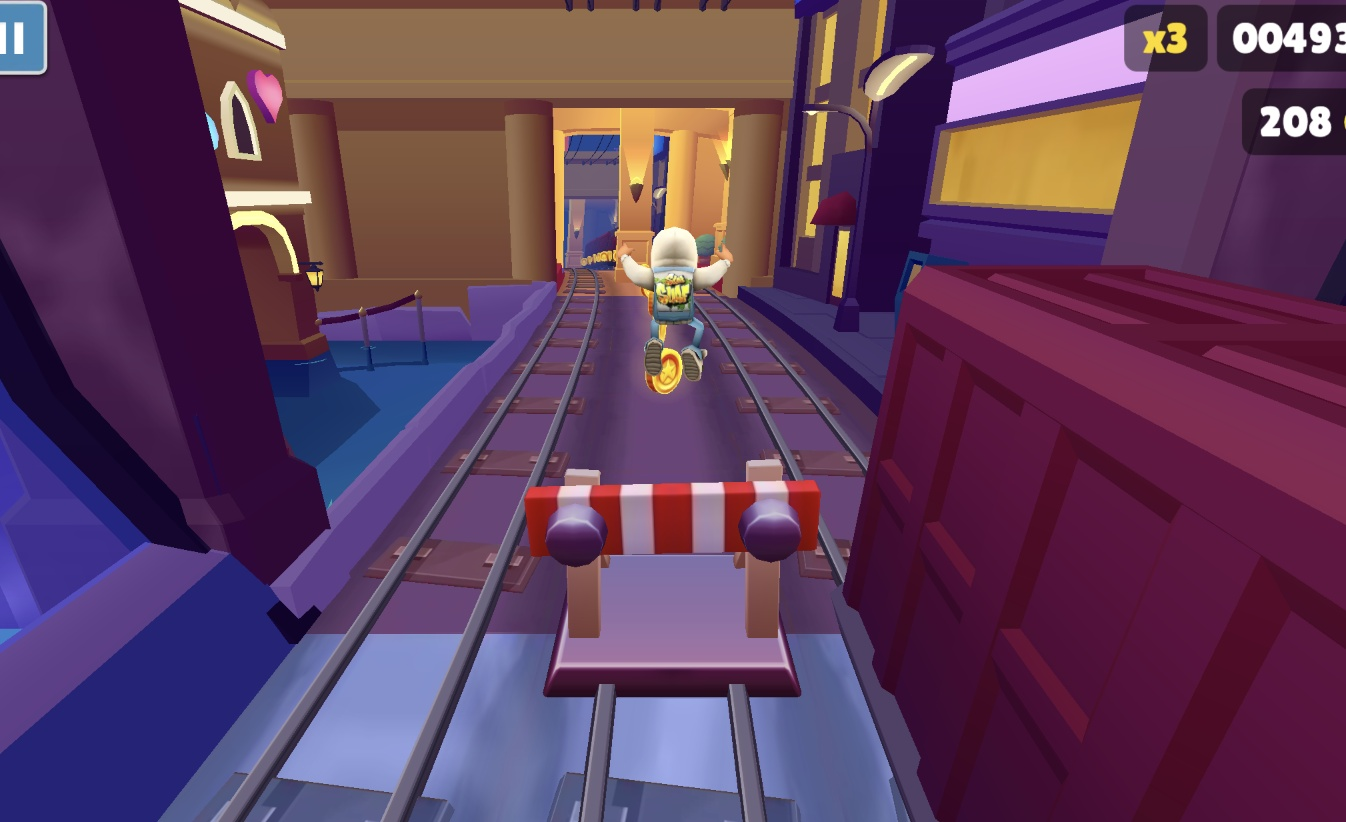ground_barrier: (526, 460, 824, 700)
pillar: (614, 120, 662, 276)
train: (844, 252, 1346, 822)
